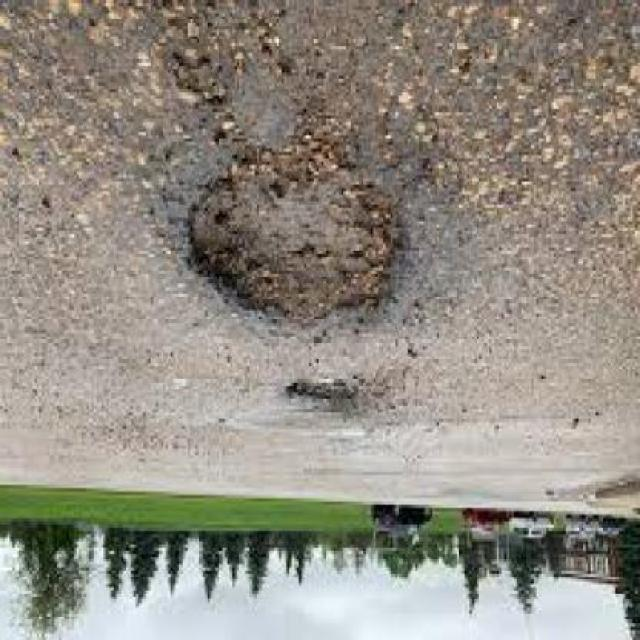pothole: (184, 135, 416, 343), (284, 377, 365, 415)
